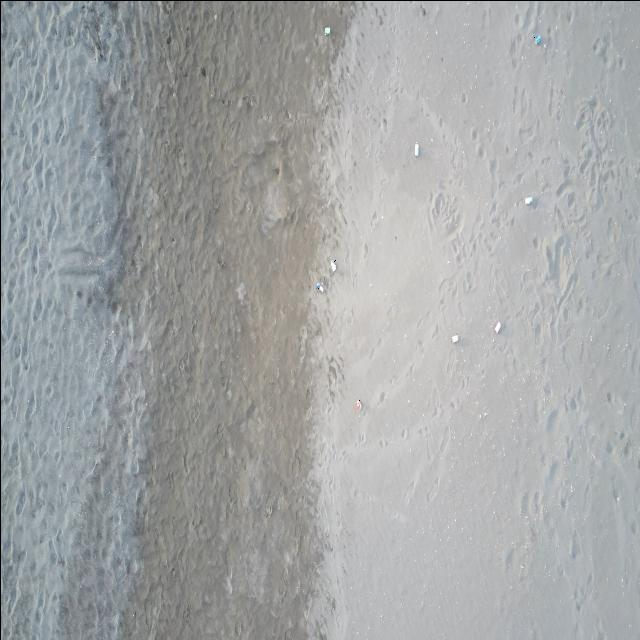Garbage: (532, 33, 542, 44), (315, 280, 323, 292), (413, 141, 419, 156), (353, 400, 360, 412), (451, 333, 459, 343), (329, 259, 335, 272), (493, 322, 500, 332), (524, 196, 532, 203), (324, 26, 329, 35)
